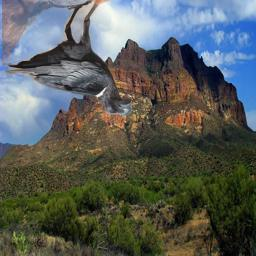Crow: (2, 0, 132, 117)
